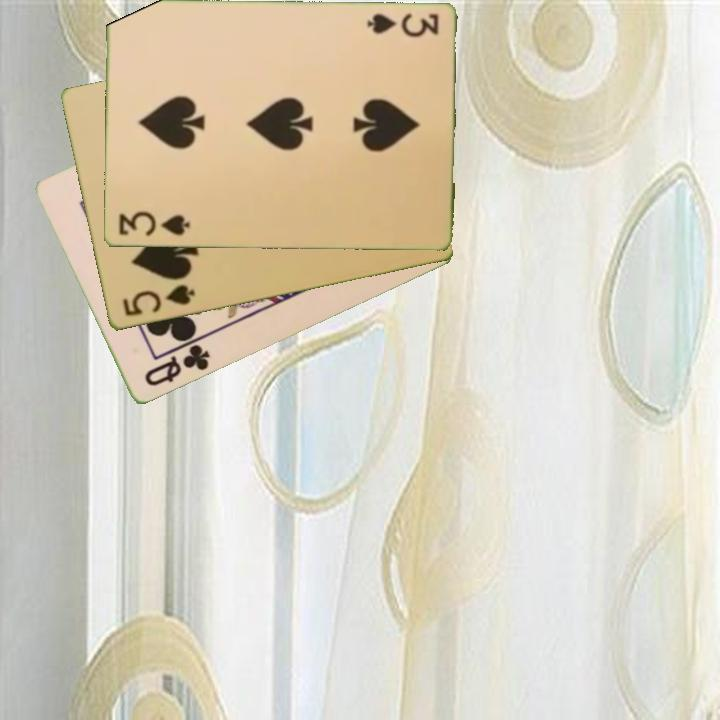3s: (363, 10, 441, 41), (114, 209, 192, 239)
5s: (119, 281, 198, 320)
Qc: (140, 341, 213, 390)
